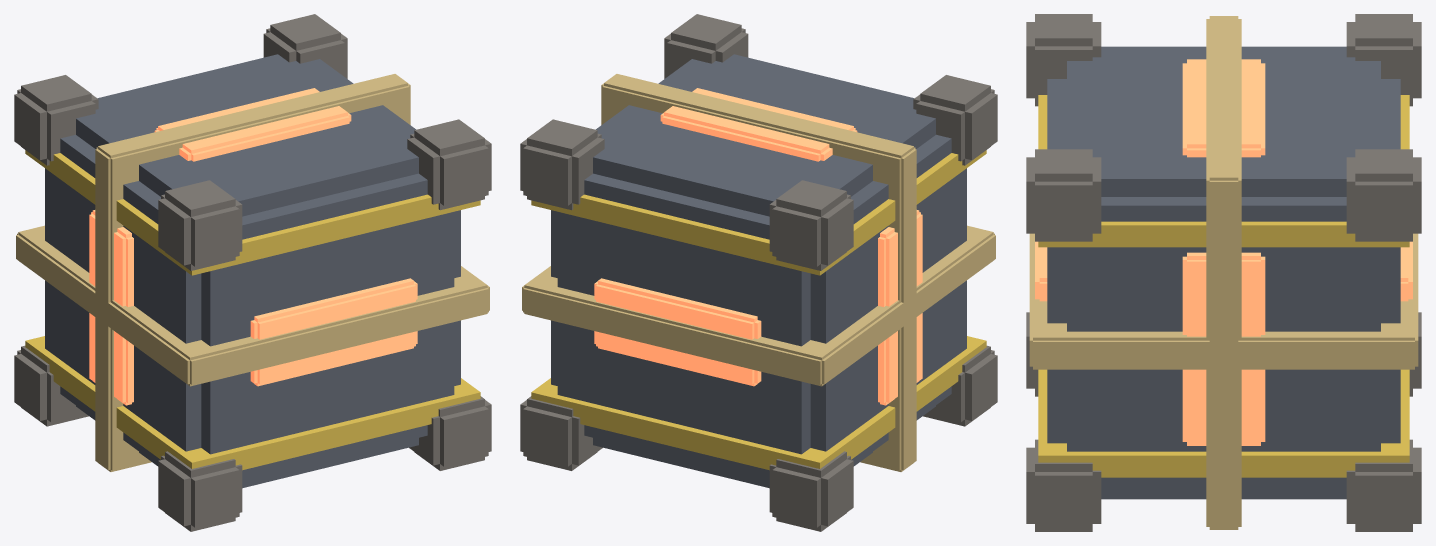
The model's file is prop_node_modules_crate.glb.
3 renders of one model, left to right at view 1: azimuth 30°, elevation 25°; view 2: azimuth 150°, elevation 25°; view 3: azimuth 270°, elevation 25°, orthographic. The views are drawn at different scales.
Parts seen in each view (by area): view 1: MainChassis, StrapZ, StrapX, HazardBot, HazardTop, CoreY, Corner_-1_-1_1, Corner_1_-1_1, Corner_-1_-1_-1, Corner_-1_1_1, CoreZ, Corner_1_-1_-1 (+3 smaller); view 2: MainChassis, StrapZ, StrapX, HazardBot, HazardTop, CoreY, Corner_-1_1_1, Corner_1_1_1, Corner_-1_1_-1, Corner_-1_-1_1, CoreZ, Corner_1_1_-1 (+3 smaller); view 3: MainChassis, StrapX, StrapZ, HazardBot, CoreX, HazardTop, Corner_1_-1_1, Corner_1_1_1, Corner_1_-1_-1, Corner_1_1_-1, CoreZ, Corner_-1_-1_1 (+4 smaller).
Part boxes in pixels (left/top/right/bottom): MainChassis: left=45, top=54, right=460, bottom=488; StrapZ: left=16, top=225, right=489, bottom=386; StrapX: left=95, top=74, right=410, bottom=471; HazardBot: left=25, top=336, right=480, bottom=470; HazardTop: left=25, top=150, right=480, bottom=275; CoreY: left=250, top=278, right=417, bottom=386; Corner_-1_-1_1: left=158, top=180, right=242, bottom=270; Corner_1_-1_1: left=407, top=119, right=491, bottom=210; Corner_-1_-1_-1: left=158, top=451, right=242, bottom=531; Corner_-1_1_1: left=14, top=75, right=98, bottom=165; CoreZ: left=154, top=88, right=351, bottom=161; Corner_1_-1_-1: left=409, top=396, right=491, bottom=470; MainChassis: left=551, top=54, right=966, bottom=488; StrapZ: left=522, top=225, right=995, bottom=386; StrapX: left=601, top=74, right=916, bottom=471; HazardBot: left=531, top=336, right=986, bottom=470; HazardTop: left=531, top=150, right=986, bottom=275; CoreY: left=594, top=278, right=761, bottom=386; Corner_-1_1_1: left=769, top=180, right=853, bottom=270; Corner_1_1_1: left=520, top=119, right=604, bottom=210; Corner_-1_1_-1: left=769, top=451, right=853, bottom=531; Corner_-1_-1_1: left=913, top=75, right=997, bottom=165; CoreZ: left=660, top=88, right=857, bottom=161; Corner_1_1_-1: left=520, top=396, right=602, bottom=470; MainChassis: left=1047, top=46, right=1400, bottom=499; StrapX: left=1206, top=16, right=1241, bottom=529; StrapZ: left=1029, top=233, right=1418, bottom=369; HazardBot: left=1038, top=369, right=1409, bottom=477; CoreX: left=1182, top=252, right=1265, bottom=445; HazardTop: left=1038, top=95, right=1409, bottom=247; Corner_1_-1_1: left=1026, top=149, right=1101, bottom=241; Corner_1_1_1: left=1346, top=149, right=1421, bottom=241; Corner_1_-1_-1: left=1026, top=439, right=1101, bottom=531; Corner_1_1_-1: left=1346, top=439, right=1421, bottom=531; CoreZ: left=1182, top=59, right=1265, bottom=157; Corner_-1_-1_1: left=1026, top=14, right=1101, bottom=106.
Bounding box in the file's own units: 0.358 × 0.358 × 0.358.
